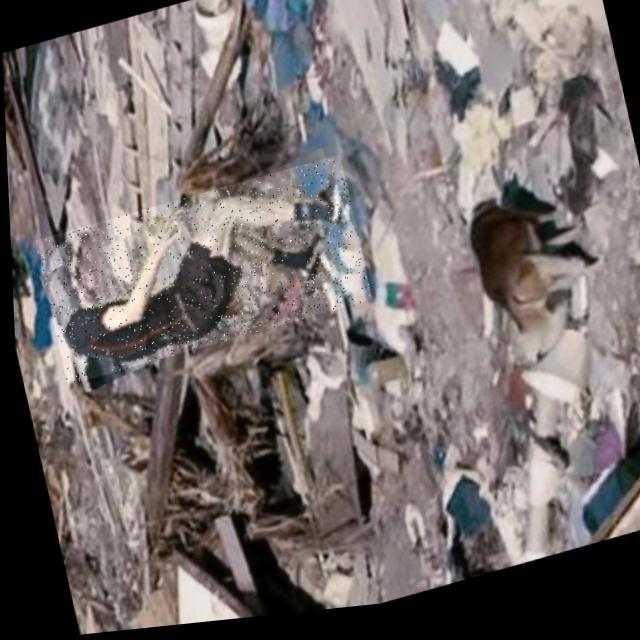Person in Rubble: (31, 158, 371, 387)
